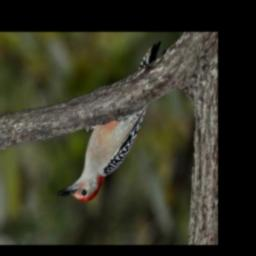Woodpecker: (56, 41, 162, 203)
